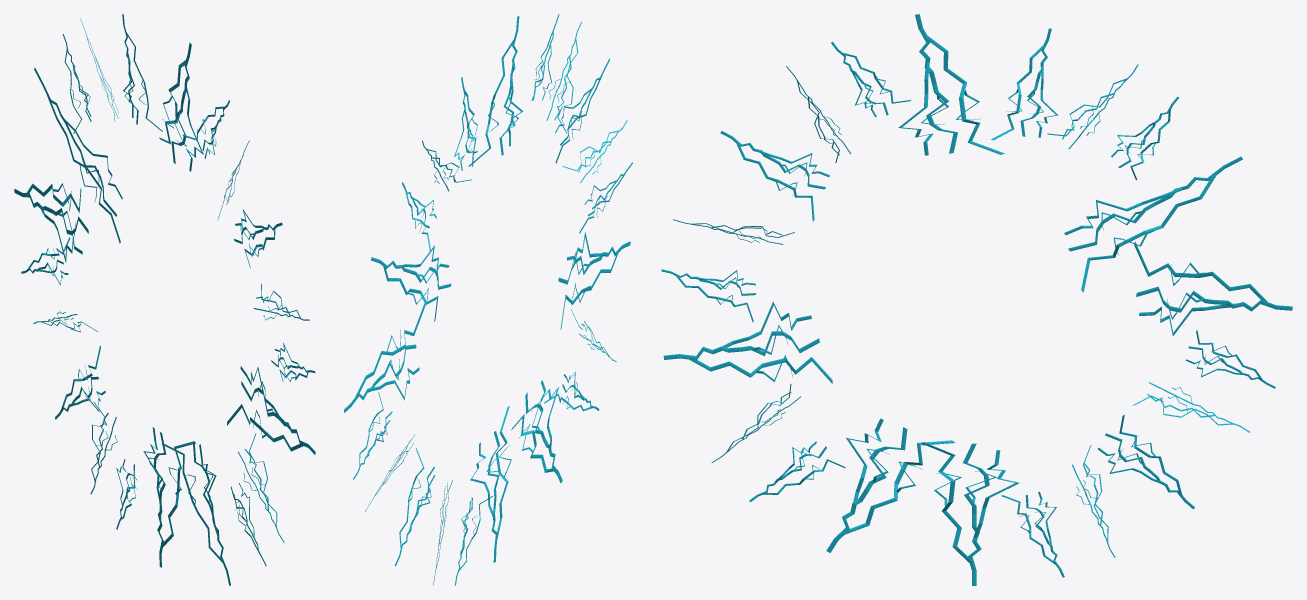
The picture shows the model from 3 angles, left to right: view 1: azimuth 30°, elevation 25°; view 2: azimuth 150°, elevation 25°; view 3: azimuth 270°, elevation 25°; orthographic projection. The views are drawn at different scales.
Visible parts, largest first — view 1: Cylinder.015, Cylinder.004, Cylinder.008, Cylinder.011, Cylinder.003, Cylinder.019, Cylinder.018, Cylinder.007, Cylinder.014, Cylinder.021, Cylinder.002, Cylinder.005 (+2 smaller); view 2: Cylinder.004, Cylinder.019, Cylinder.003, Cylinder.015, Cylinder.008, Cylinder.011, Cylinder.007, Cylinder.014, Cylinder.018, Cylinder.010, Cylinder.012, Cylinder.001 (+5 smaller); view 3: Cylinder.015, Cylinder.008, Cylinder.011, Cylinder.019, Cylinder.003, Cylinder.004, Cylinder.014, Cylinder.018, Cylinder.007.
Part boxes in pixels (x1,y1,x2,y2): Cylinder.015: (34, 68, 122, 243); Cylinder.004: (14, 183, 88, 262); Cylinder.008: (159, 42, 203, 171); Cylinder.011: (227, 366, 315, 454); Cylinder.003: (143, 427, 195, 567); Cylinder.019: (161, 441, 230, 585); Cylinder.018: (122, 14, 162, 131); Cylinder.007: (55, 345, 105, 419); Cylinder.014: (234, 209, 282, 267); Cylinder.021: (238, 433, 284, 542); Cylinder.002: (90, 402, 117, 494); Cylinder.005: (21, 237, 70, 285); Cylinder.004: (344, 303, 425, 412); Cylinder.019: (511, 380, 562, 483); Cylinder.003: (470, 406, 511, 562); Cylinder.015: (371, 245, 451, 321); Cylinder.008: (468, 16, 523, 166); Cylinder.011: (558, 232, 630, 329); Cylinder.007: (394, 448, 435, 566); Cylinder.014: (555, 58, 609, 163); Cylinder.018: (454, 77, 478, 170); Cylinder.010: (546, 22, 581, 133); Cylinder.012: (579, 162, 632, 233); Cylinder.001: (455, 496, 492, 585); Cylinder.015: (1064, 156, 1242, 292); Cylinder.008: (898, 14, 1004, 155); Cylinder.011: (663, 302, 832, 383); Cylinder.019: (826, 418, 955, 552); Cylinder.003: (921, 442, 1019, 585); Cylinder.004: (1134, 241, 1292, 335); Cylinder.014: (720, 131, 829, 221); Cylinder.018: (991, 28, 1058, 140); Cylinder.007: (1098, 415, 1194, 509).
Size of the model in its own units: 113 by 1984 by 1981.
